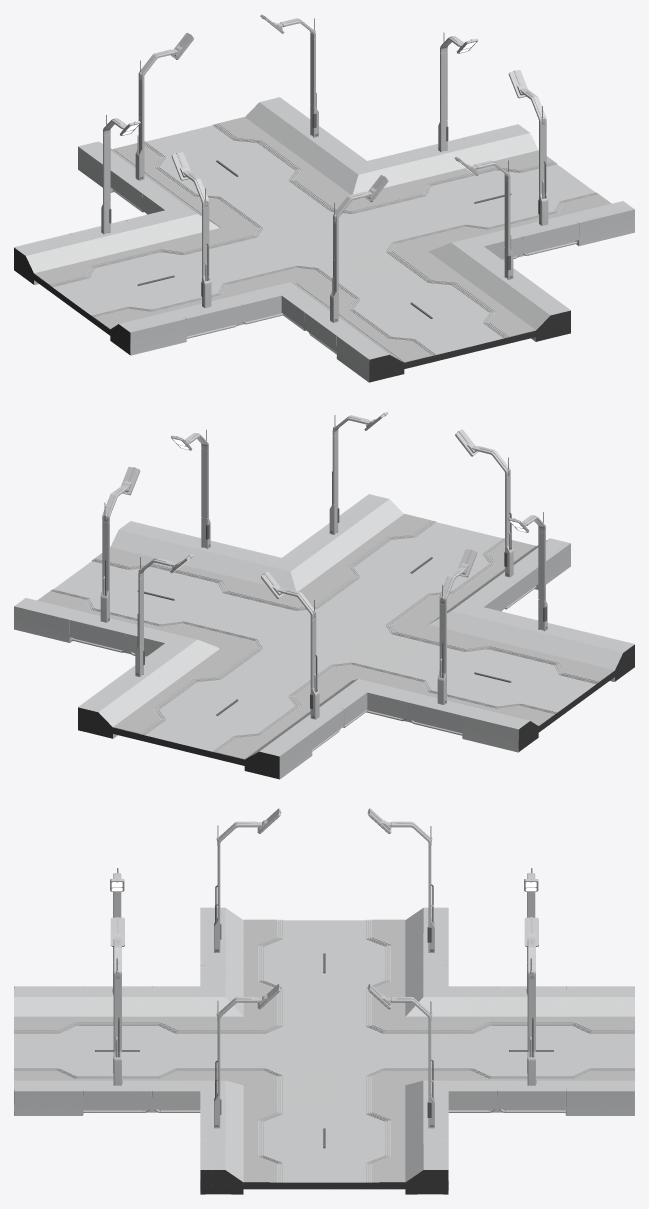
Rendered from K051_高科技街道_43.fbx.
3 views of the same model, one above another, from view 1: azimuth 30°, elevation 25°; view 2: azimuth 150°, elevation 25°; view 3: azimuth 270°, elevation 25° (orthographic). The views are drawn at different scales.
Parts seen in each view (by area): view 1: KB3D_HTS_Road_F_Main, KB3D_HTS_Road_F_LampD, KB3D_HTS_Road_F_LampC, KB3D_HTS_Road_F_LampG, KB3D_HTS_Road_F_LampB, KB3D_HTS_Road_F_LampE, KB3D_HTS_Road_F_LampF, KB3D_HTS_Road_F_LampA, KB3D_HTS_Road_F_LampH; view 2: KB3D_HTS_Road_F_Main, KB3D_HTS_Road_F_LampE, KB3D_HTS_Road_F_LampF, KB3D_HTS_Road_F_LampG, KB3D_HTS_Road_F_LampB, KB3D_HTS_Road_F_LampC, KB3D_HTS_Road_F_LampD, KB3D_HTS_Road_F_LampA, KB3D_HTS_Road_F_LampH; view 3: KB3D_HTS_Road_F_Main, KB3D_HTS_Road_F_LampA, KB3D_HTS_Road_F_LampH, KB3D_HTS_Road_F_LampC, KB3D_HTS_Road_F_LampF, KB3D_HTS_Road_F_LampE, KB3D_HTS_Road_F_LampD, KB3D_HTS_Road_F_LampB, KB3D_HTS_Road_F_LampG.
Boxes of the visible parts, x1,y1,x2,y2 form: KB3D_HTS_Road_F_Main: [14, 97, 634, 382]; KB3D_HTS_Road_F_LampD: [508, 70, 548, 225]; KB3D_HTS_Road_F_LampC: [171, 152, 211, 307]; KB3D_HTS_Road_F_LampG: [135, 32, 194, 180]; KB3D_HTS_Road_F_LampB: [330, 175, 388, 322]; KB3D_HTS_Road_F_LampE: [438, 32, 477, 152]; KB3D_HTS_Road_F_LampF: [101, 115, 140, 234]; KB3D_HTS_Road_F_LampA: [454, 157, 513, 279]; KB3D_HTS_Road_F_LampH: [260, 14, 318, 137]; KB3D_HTS_Road_F_Main: [14, 494, 634, 779]; KB3D_HTS_Road_F_LampE: [100, 466, 140, 622]; KB3D_HTS_Road_F_LampF: [437, 549, 477, 704]; KB3D_HTS_Road_F_LampG: [261, 571, 319, 719]; KB3D_HTS_Road_F_LampB: [455, 429, 513, 577]; KB3D_HTS_Road_F_LampC: [508, 512, 547, 631]; KB3D_HTS_Road_F_LampD: [171, 429, 210, 548]; KB3D_HTS_Road_F_LampA: [329, 411, 388, 534]; KB3D_HTS_Road_F_LampH: [135, 554, 193, 676]; KB3D_HTS_Road_F_Main: [14, 907, 634, 1194]; KB3D_HTS_Road_F_LampA: [110, 917, 124, 1085]; KB3D_HTS_Road_F_LampH: [524, 917, 538, 1085]; KB3D_HTS_Road_F_LampC: [214, 808, 281, 952]; KB3D_HTS_Road_F_LampF: [367, 808, 434, 952]; KB3D_HTS_Road_F_LampE: [367, 984, 434, 1128]; KB3D_HTS_Road_F_LampD: [214, 984, 281, 1128]; KB3D_HTS_Road_F_LampB: [110, 868, 124, 994]; KB3D_HTS_Road_F_LampG: [524, 868, 538, 994].
Size of the model in its own units: 20 by 5.89 by 20.
